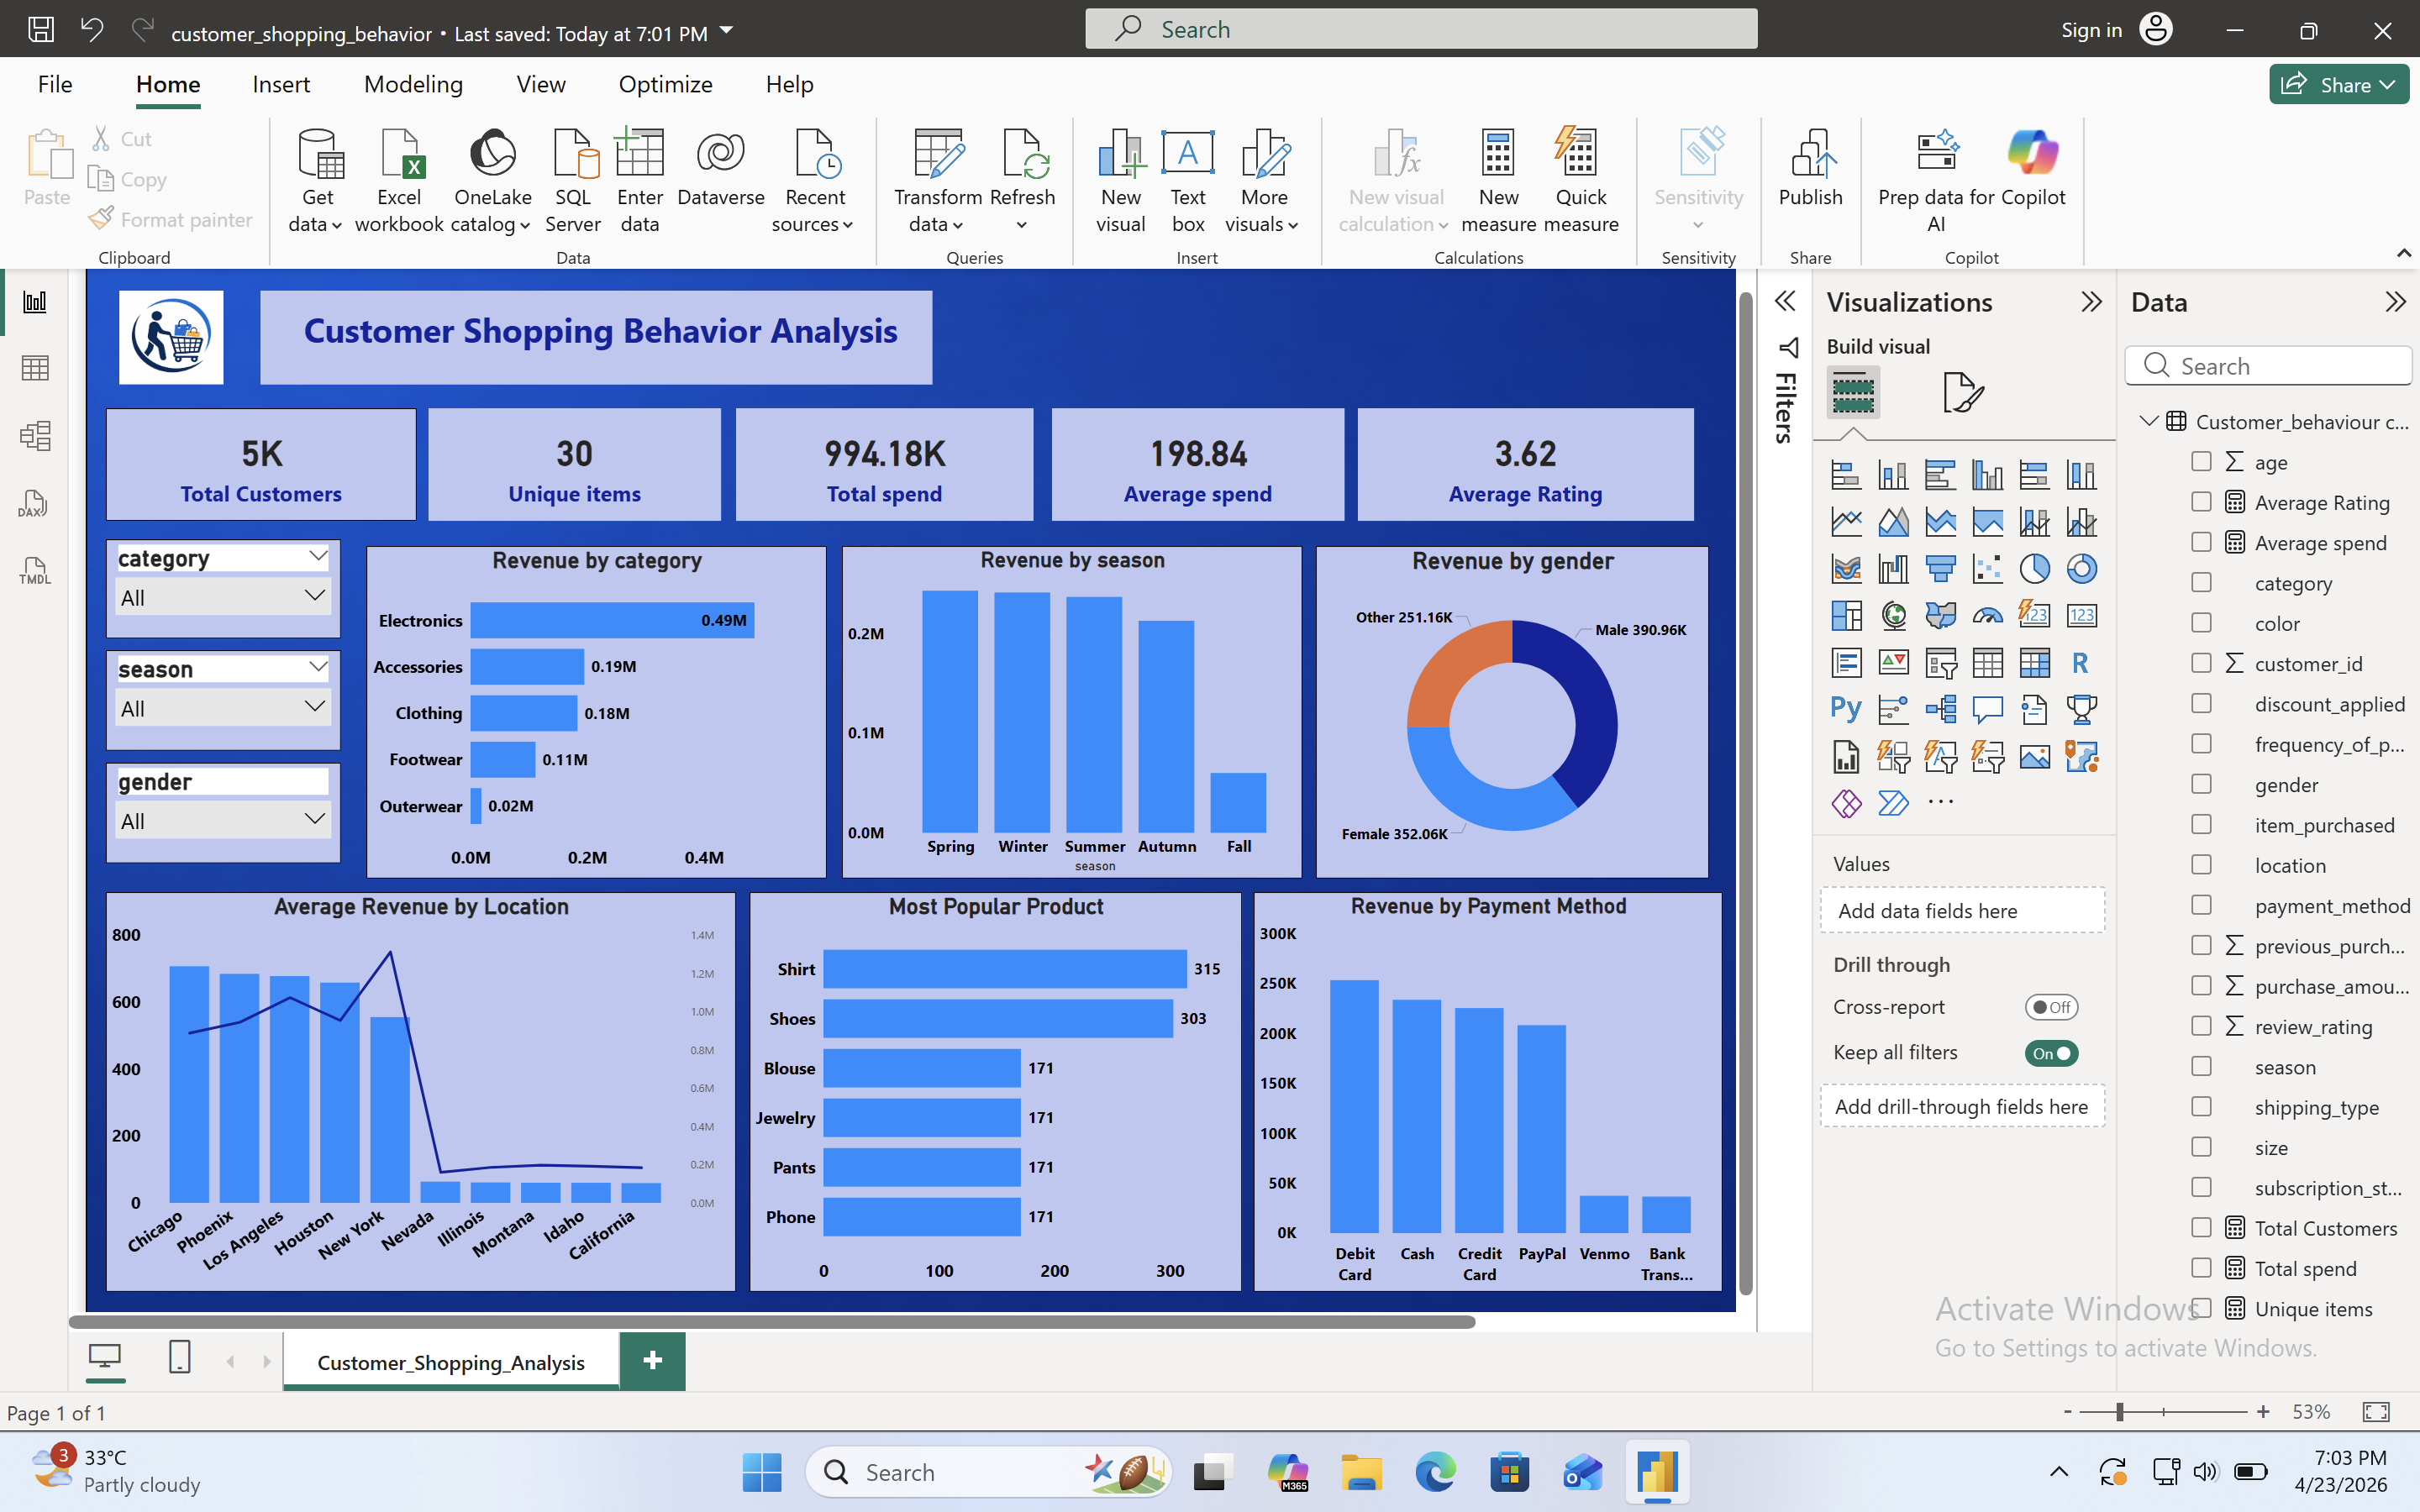

The dashboard page shown, as its layout file describes it:
{"tool":"powerbi","page":{"name":"Customer_Shopping_Analysis","canvas":[2200,1200],"ordinal":0},"visuals":[{"type":"card","fields":{"Values":["Customer_behaviour customer.Total Customers"]},"box":[22.6,166,349.1,126.4],"z":0},{"type":"card","fields":{"Values":["Customer_behaviour customer.Unique items"]},"box":[384.9,166,328.3,126.4],"z":1000},{"type":"card","fields":{"Values":["Customer_behaviour customer.Total spend"]},"box":[730.2,166,334,126.4],"z":2000},{"type":"card","fields":{"Values":["Customer_behaviour customer.Average spend"]},"box":[1084.9,166,328.3,126.4],"z":3000},{"type":"card","fields":{"Values":["Customer_behaviour customer.Average Rating"]},"box":[1428.3,166,377.4,126.4],"z":4000},{"type":"slicer","fields":{"Values":["Customer_behaviour customer.category"]},"box":[22.6,313.2,264.2,111.3],"z":5000},{"type":"slicer","fields":{"Values":["Customer_behaviour customer.season"]},"box":[22.6,437.7,264.2,113.2],"z":6000},{"type":"slicer","fields":{"Values":["Customer_behaviour customer.gender"]},"box":[22.6,564.2,264.2,113.2],"z":7000},{"type":"image","box":[37.7,34,117,105.7],"z":7001},{"type":"textbox","box":[196.2,34,754.7,105.7],"z":7002},{"type":"donutChart","title":"Revenue by gender","fields":{"Category":["Customer_behaviour customer.gender"],"Y":["Sum(Customer_behaviour customer.purchase_amount)"]},"box":[1381.1,320.8,441.5,373.6],"z":7003},{"type":"barChart","title":"Revenue by category","fields":{"Category":["Customer_behaviour customer.category"],"Y":["Sum(Customer_behaviour customer.purchase_amount)"]},"box":[315.1,320.8,517,373.6],"z":7004},{"type":"clusteredColumnChart","title":"Revenue  by season","fields":{"Category":["Customer_behaviour customer.season"],"Y":["Sum(Customer_behaviour customer.purchase_amount)"]},"box":[849.1,320.8,517,373.6],"z":7005},{"type":"barChart","title":"Most Popular Product","fields":{"Category":["Customer_behaviour customer.item_purchased"],"Y":["CountNonNull(Customer_behaviour customer.item_purchased)"]},"box":[745.3,709.4,552.8,449.1],"z":7006},{"type":"lineClusteredColumnComboChart","title":"Average Revenue by Location","fields":{"Category":["Customer_behaviour customer.location"],"Y":["Avg(Customer_behaviour customer.purchase_amount)"],"Y2":["Sum(Customer_behaviour customer.customer_id)"]},"box":[22.6,709.4,707.5,449.1],"z":7007},{"type":"clusteredColumnChart","title":"Revenue  by Payment Method","fields":{"Category":["Customer_behaviour customer.payment_method"],"Y":["Sum(Customer_behaviour customer.purchase_amount)"]},"box":[1311.3,709.4,526.4,449.1],"z":7008}]}

Visuals, with their boxes on the page's 2200x1200 design canvas (x1, y1, x2, y2). These are canvas units, not pixel positions in the 2420x1512 screenshot, which may show the page scaled, cropped or inside an application window:
card - Customer_behaviour customer.Total Customers: 23:166:372:292
card - Customer_behaviour customer.Unique items: 385:166:713:292
card - Customer_behaviour customer.Total spend: 730:166:1064:292
card - Customer_behaviour customer.Average spend: 1085:166:1413:292
card - Customer_behaviour customer.Average Rating: 1428:166:1806:292
slicer - Customer_behaviour customer.category: 23:313:287:424
slicer - Customer_behaviour customer.season: 23:438:287:551
slicer - Customer_behaviour customer.gender: 23:564:287:677
image: 38:34:155:140
textbox: 196:34:951:140
"Revenue by gender" donutChart: 1381:321:1823:694
"Revenue by category" barChart: 315:321:832:694
"Revenue  by season" clusteredColumnChart: 849:321:1366:694
"Most Popular Product" barChart: 745:709:1298:1158
"Average Revenue by Location" lineClusteredColumnComboChart: 23:709:730:1158
"Revenue  by Payment Method" clusteredColumnChart: 1311:709:1838:1158
